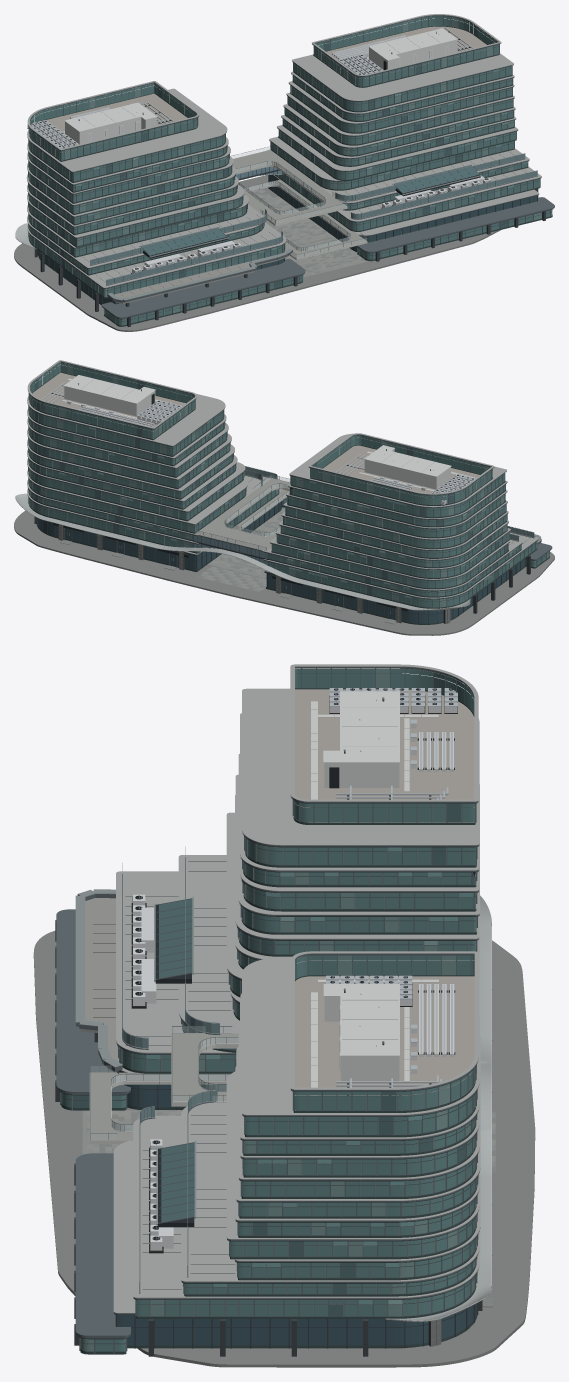
The model's file is zijin-kechuang-video-details-v2.glb.
3 renders of one model, top to bottom at view 1: azimuth 30°, elevation 25°; view 2: azimuth 150°, elevation 25°; view 3: azimuth 270°, elevation 25°, orthographic. The views are drawn at different scales.
Parts seen in each view (by area): view 1: C_Foundation__stone, B_L11_FloorBands__edge, B_L12_Glazing__glass0, A_RearPodium_Canopy__metal, A_L12_Glazing__glass0, A_L11_FloorBands__edge, V4_庭院灰石错缝铺装, V4_L3_连续圆角天井连廊_含前部露台, B_RearPodium_Canopy__metal, B_L02_Glazing__glass0, B_L11_Glazing__glass0, A_L02_Glazing__glass0 (+95 smaller); view 2: C_Foundation__stone, A_L12_Glazing__glass0, B_L12_Glazing__glass0, A_L01_Glazing__glass0, V4_L3_连续圆角天井连廊_含前部露台, B_L01_Glazing__glass0, A_L02_Glazing__glass0, B_L11_FloorBands__edge, A_L11_Glazing__glass0, A_L04_Glazing__glass0, A_L05_Glazing__glass0, B_L11_Glazing__glass0 (+97 smaller); view 3: C_Foundation__stone, A_L11_FloorBands__edge, A_RoofDeck__roof, B_RoofDeck__roof, B_L11_FloorBands__edge, B_L03_FloorBands__edge, B_L01_Glazing__glass0, B_RearPodium_Canopy__metal, A_L03_FloorBands__edge, A_L02_FloorBands__edge, B_L02_FloorBands__edge, A_L12_Glazing__glass0 (+73 smaller).
Part boxes in pixels (x1,y1,x2,y2): C_Foundation__stone: (14,175,500,331); B_L11_FloorBands__edge: (292,34,513,100); B_L12_Glazing__glass0: (313,16,499,86); A_RearPodium_Canopy__metal: (101,259,305,318); A_L12_Glazing__glass0: (29,83,197,160); A_L11_FloorBands__edge: (27,88,227,171); V4_庭院灰石错缝铺装: (263,198,367,276); V4_L3_连续圆角天井连廊_含前部露台: (232,150,347,226); B_RearPodium_Canopy__metal: (357,197,554,252); B_L02_Glazing__glass0: (276,173,539,230); B_L11_Glazing__glass0: (293,63,511,110); A_L02_Glazing__glass0: (29,234,284,295); C_Foundation__stone: (14,507,554,635); A_L12_Glazing__glass0: (310,435,492,504); B_L12_Glazing__glass0: (30,362,195,438); A_L01_Glazing__glass0: (266,559,526,623); V4_L3_连续圆角天井连廊_含前部露台: (196,478,290,551); B_L01_Glazing__glass0: (36,501,281,570); A_L02_Glazing__glass0: (268,542,535,607); B_L11_FloorBands__edge: (27,366,225,445); A_L11_Glazing__glass0: (291,473,505,516); A_L04_Glazing__glass0: (272,544,508,587); A_L05_Glazing__glass0: (277,532,509,577); B_L11_Glazing__glass0: (29,407,223,455); C_Foundation__stone: (33,931,535,1367); A_L11_FloorBands__edge: (242,688,479,845); A_RoofDeck__roof: (294,689,474,822); B_RoofDeck__roof: (295,976,474,1110); B_L11_FloorBands__edge: (242,957,479,1115); B_L03_FloorBands__edge: (181,1103,479,1281); B_L01_Glazing__glass0: (117,1305,473,1345); B_RearPodium_Canopy__metal: (75,1153,130,1337); A_L03_FloorBands__edge: (178,855,239,1033); A_L02_FloorBands__edge: (116,871,235,1053); B_L02_FloorBands__edge: (133,1115,479,1298); A_L12_Glazing__glass0: (294,669,475,822).
Size of the model in its own units: 82 by 24.03 by 39.38.
